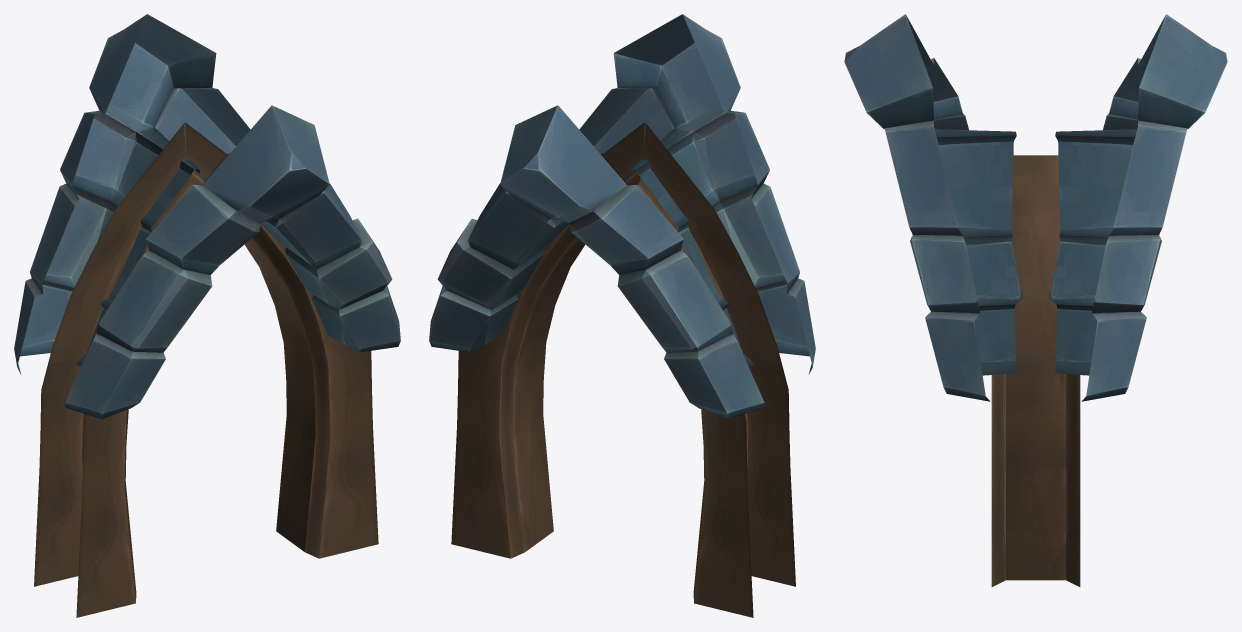
Rendered from A_CR_GEN_DoorFrame_01.fbx.
3 renders of one model, left to right at view 1: azimuth 30°, elevation 25°; view 2: azimuth 150°, elevation 25°; view 3: azimuth 270°, elevation 25°, orthographic. The views are drawn at different scales.
Parts seen in each view (by area): view 1: A_CR_GEN_DoorFrame_01; view 2: A_CR_GEN_DoorFrame_01; view 3: A_CR_GEN_DoorFrame_01.
Boxes of the visible parts, bbox=[...] form: A_CR_GEN_DoorFrame_01: bbox=[14, 14, 400, 617]; A_CR_GEN_DoorFrame_01: bbox=[429, 14, 815, 617]; A_CR_GEN_DoorFrame_01: bbox=[844, 14, 1227, 586].
Size of the model in its own units: 606 by 877 by 576.
2 materials, 2 textured.
